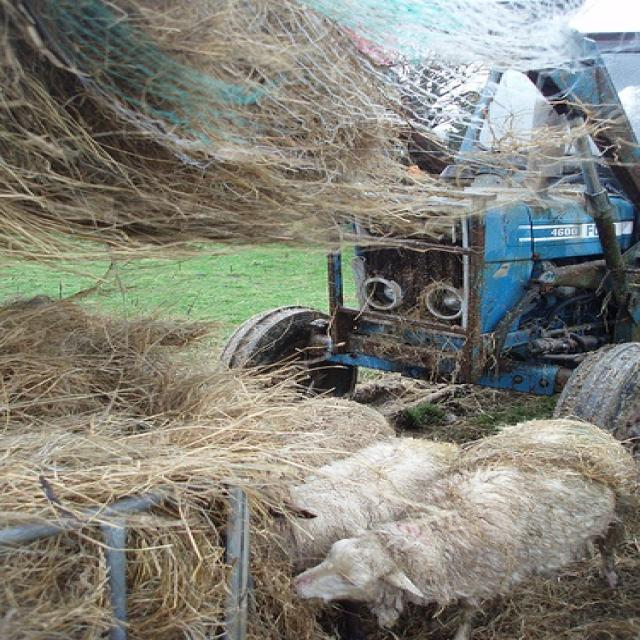sheep: (295, 421, 639, 640), (276, 436, 458, 564)
